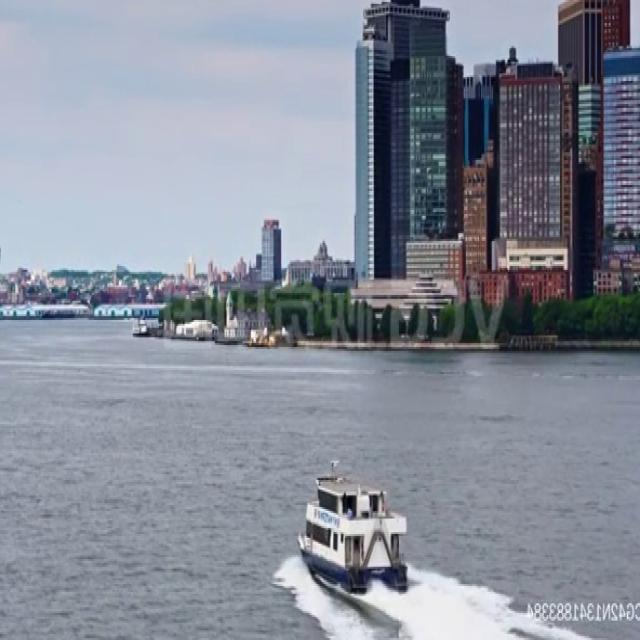houseboat: (299, 465, 415, 597)
